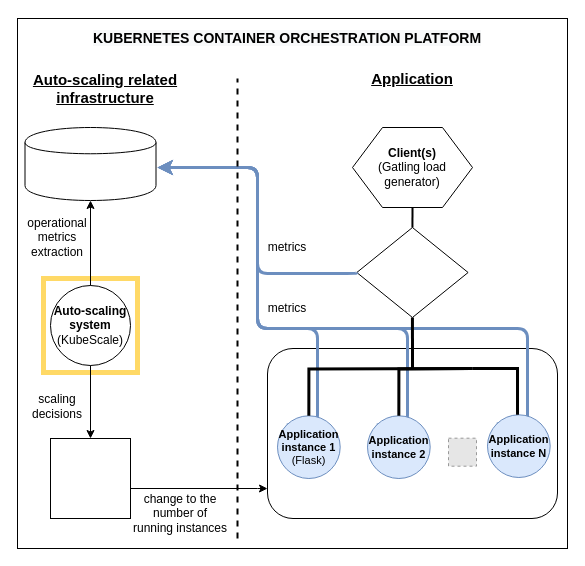
The diagram is 585 pixels wide and 566 high, and some of its shapes have lost their labels. Grey dashed boxes stand in for pictures. Each missing label, with the box of its shape:
Kubernetes control plane: (50, 438, 130, 518)
Load balancer (Envoy): (356, 226, 468, 318)
Monitoring system (Prometheus): (24, 126, 156, 200)
